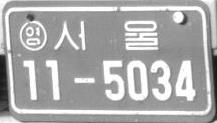-: (73, 75, 95, 86)
0: (126, 59, 149, 101)
1: (44, 59, 69, 100), (19, 59, 43, 99)
3: (150, 58, 172, 102)
4: (172, 58, 197, 102)
5: (101, 59, 125, 101)
서울_D: (52, 19, 160, 50)
영: (19, 20, 47, 51)
